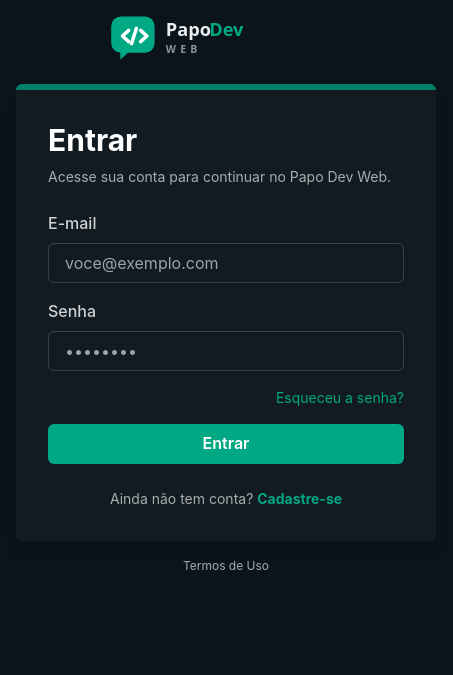
Test: LoginPage › mostra toast de erro quando o login falha
The width and height of the screenshot is (453, 675).
In the field labelled "E-mail": (226, 262) [48,242,404,282], type "maria@example.com"
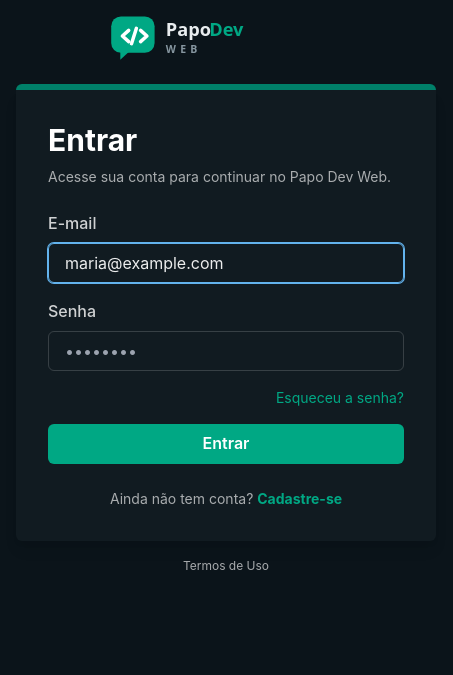
In the password field labelled "Senha": (226, 350) [48,330,404,370], type "senhaSegura123"
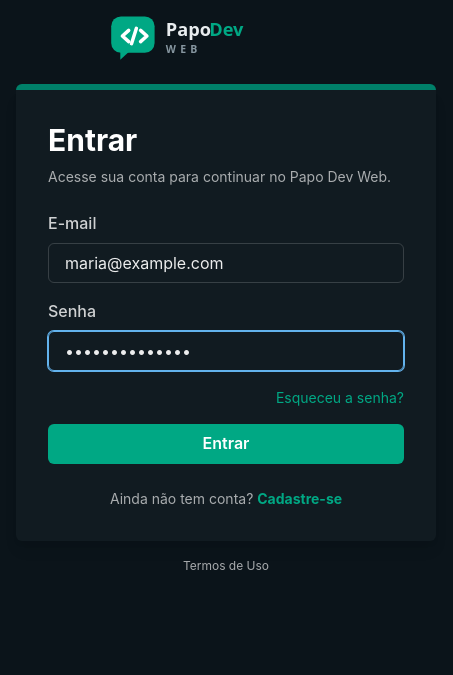
Click the button "Entrar": (226, 444) [48,424,404,464]
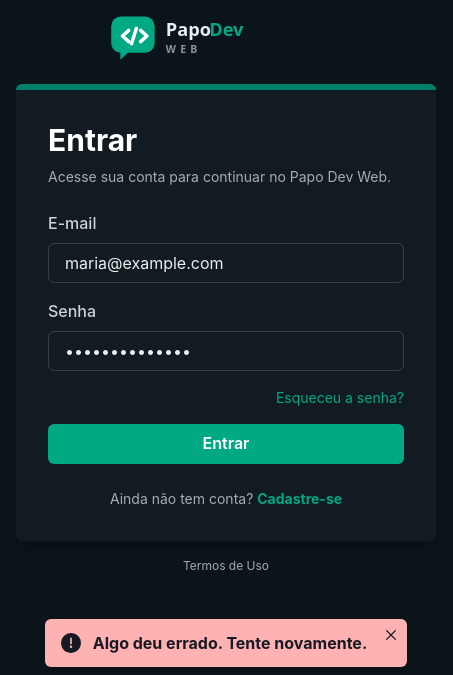
Expected: the text "Algo deu errado. Tente novamente." is shown, [93,631,367,655]
